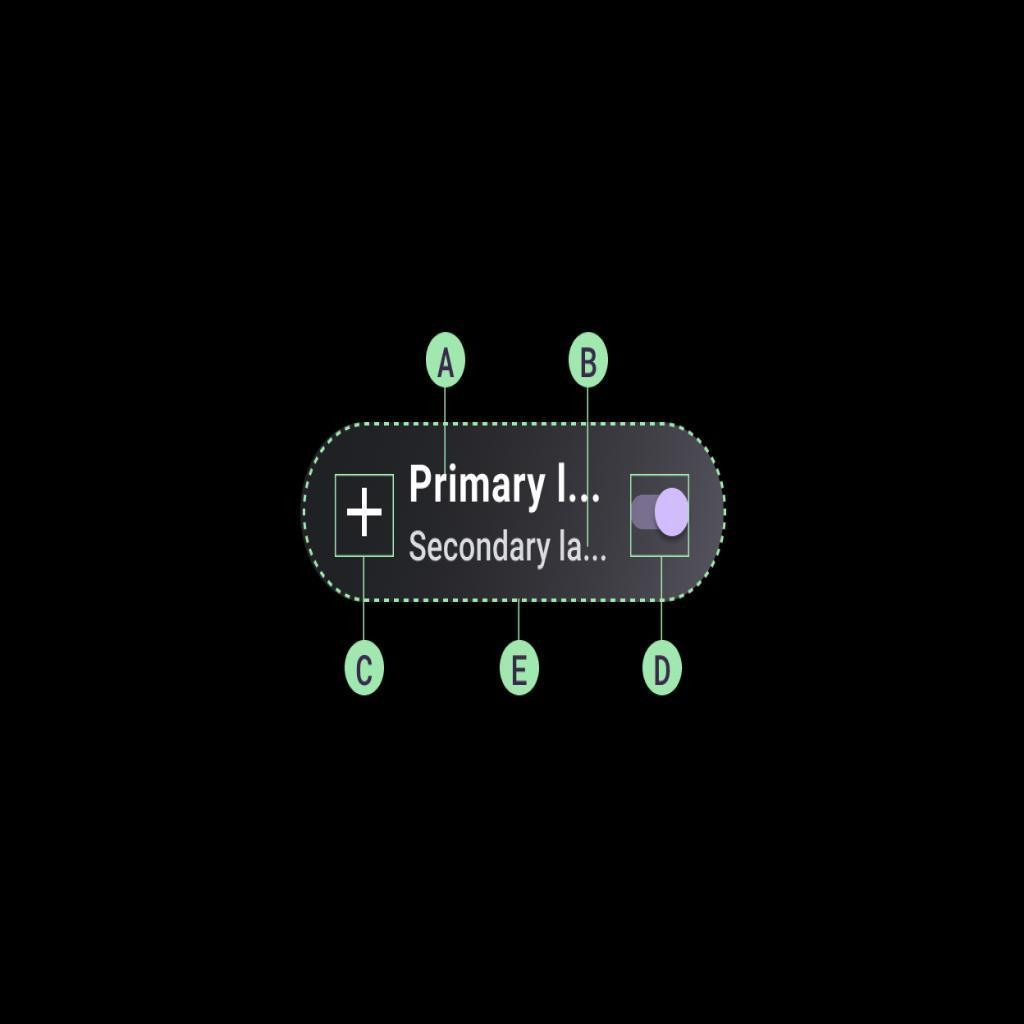icon: (346, 487, 387, 543)
switch: (636, 478, 693, 560)
